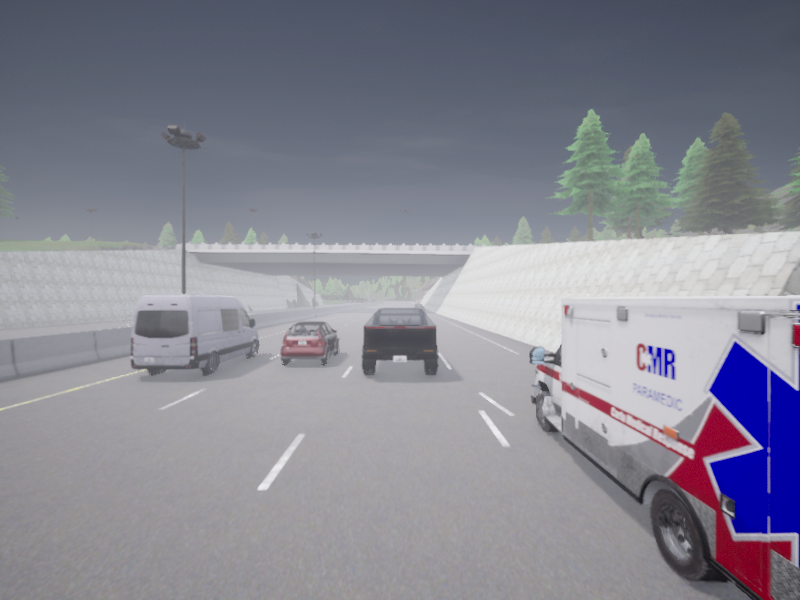vehicle: (529, 296, 799, 599), (130, 296, 258, 374), (361, 308, 438, 375), (280, 321, 338, 364), (412, 304, 423, 310)
